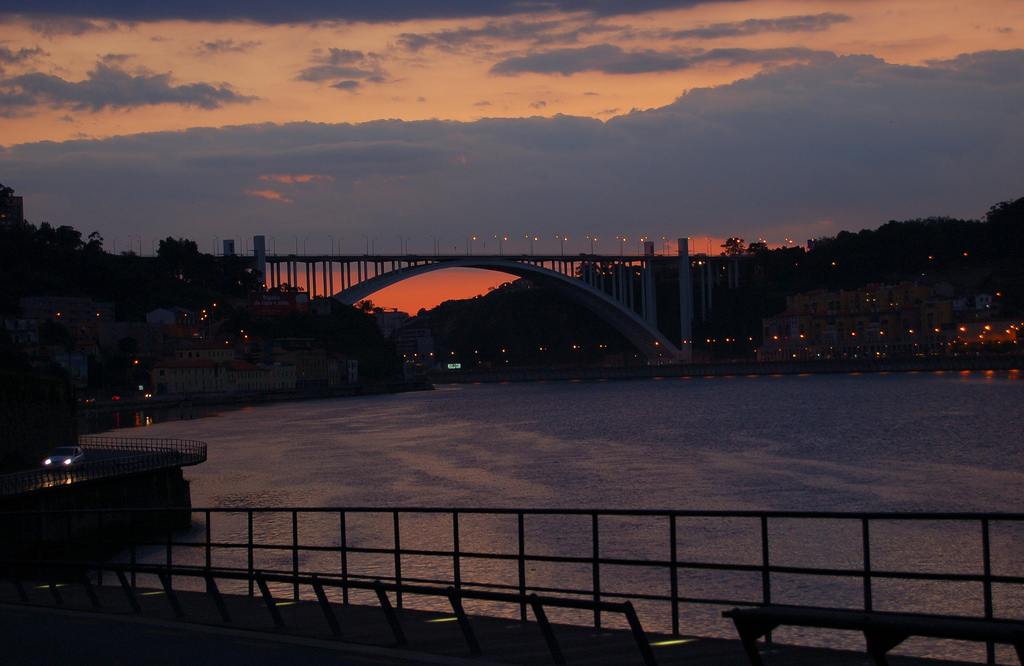arrabida: (193, 233, 733, 364)
